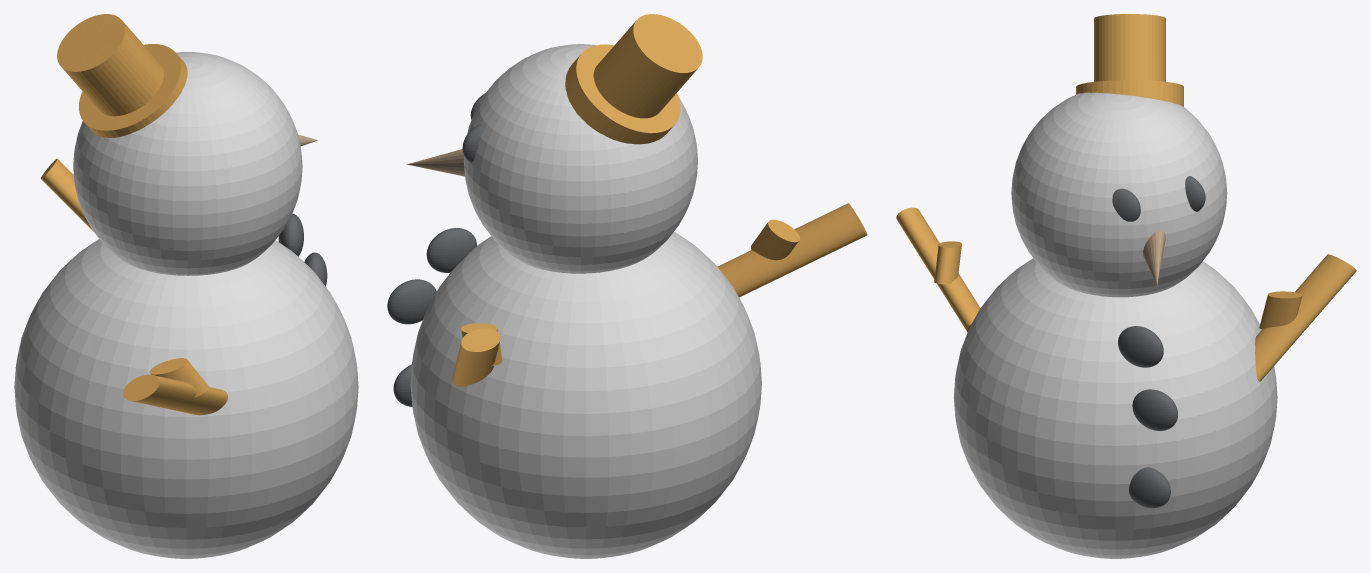
The model's file is 雪人店員.glb.
3 renders of one model, left to right at view 1: azimuth 30°, elevation 25°; view 2: azimuth 150°, elevation 25°; view 3: azimuth 270°, elevation 25°, orthographic. The views are drawn at different scales.
Parts seen in each view (by area): view 1: Mesh_Mesh_head_geo.001_lambert2SG.001; view 2: Mesh_Mesh_head_geo.001_lambert2SG.001; view 3: Mesh_Mesh_head_geo.001_lambert2SG.001.
Part boxes in pixels (box(x1,y1,x2,y2)): Mesh_Mesh_head_geo.001_lambert2SG.001: box(14, 14, 358, 558); Mesh_Mesh_head_geo.001_lambert2SG.001: box(387, 14, 867, 558); Mesh_Mesh_head_geo.001_lambert2SG.001: box(896, 14, 1356, 558).
Size of the model in its own units: 0.0503 by 0.0771 by 0.064.
